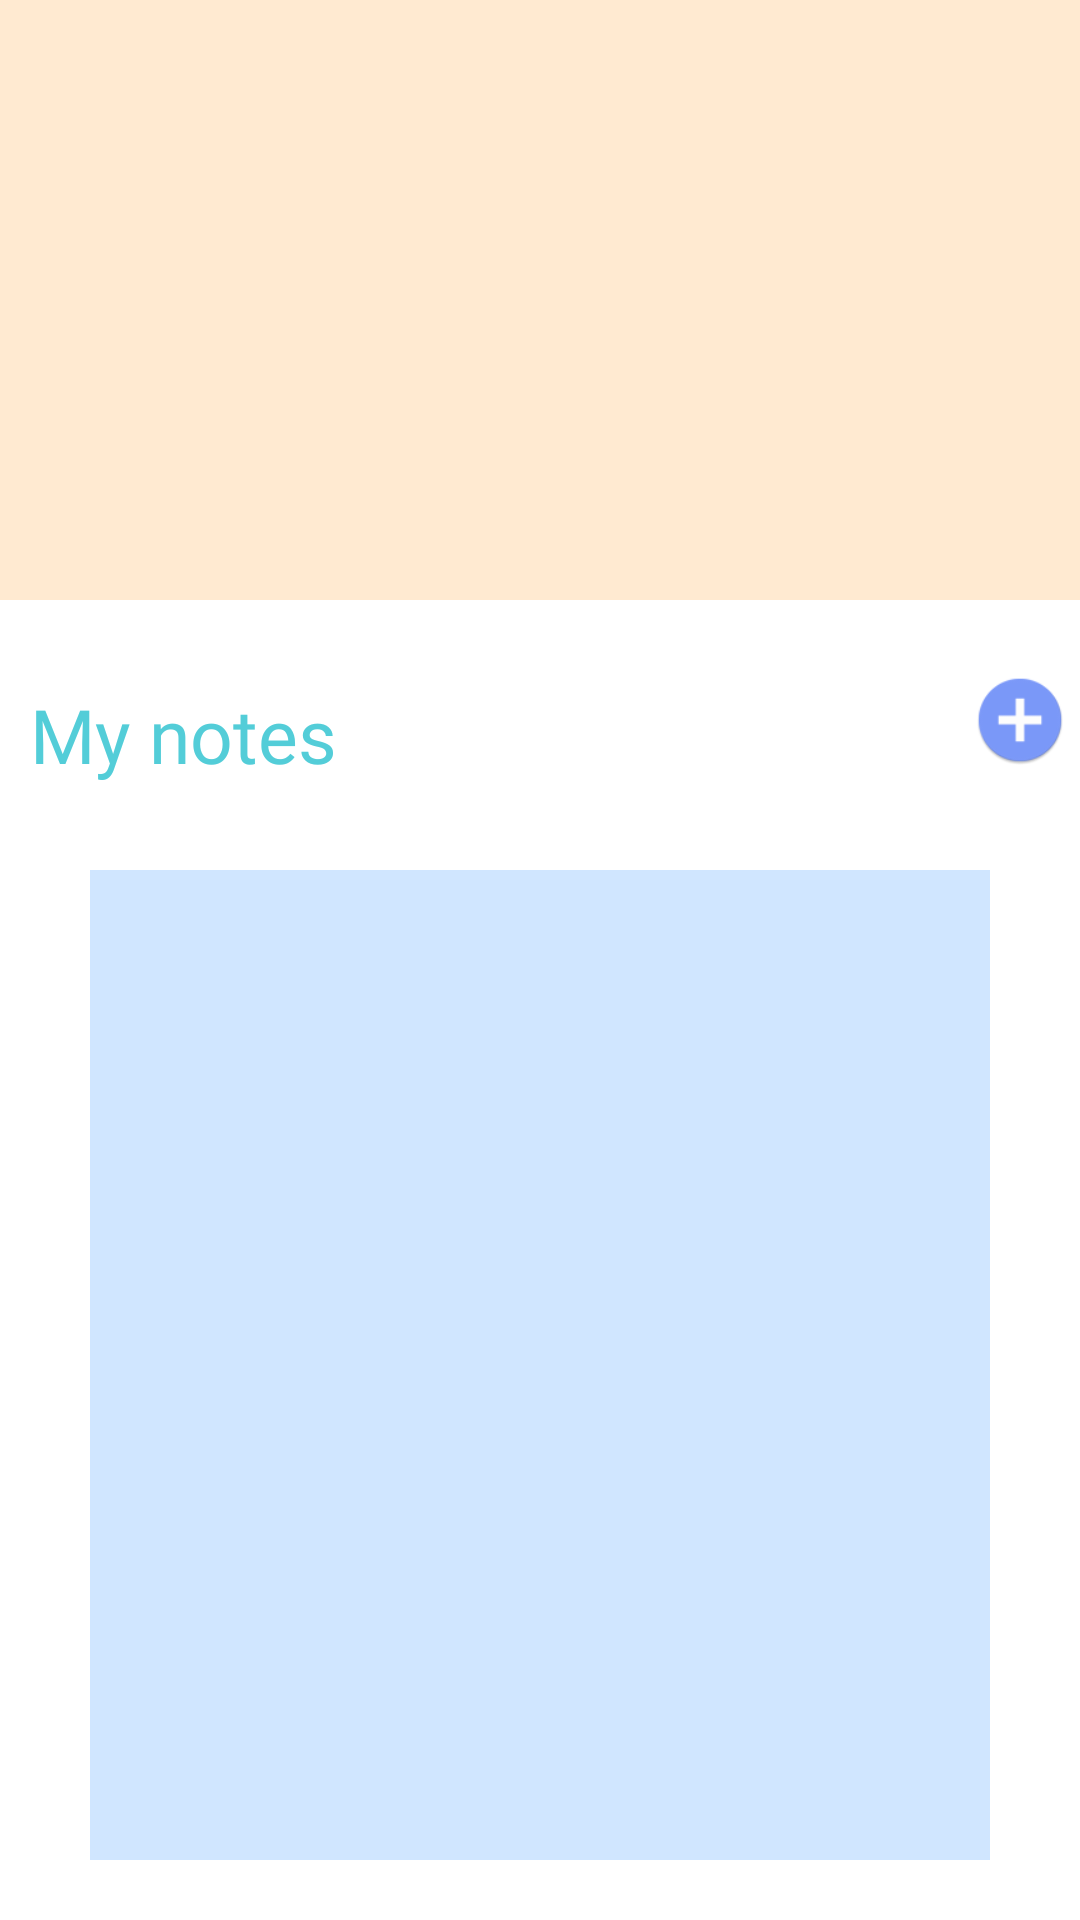

Screen size 1080x1920. Icon name, then its box in pixels as {"left": x1, "top": y1, "right": x2, "bottom": y2}:
add note: {"left": 978, "top": 678, "right": 1062, "bottom": 763}
